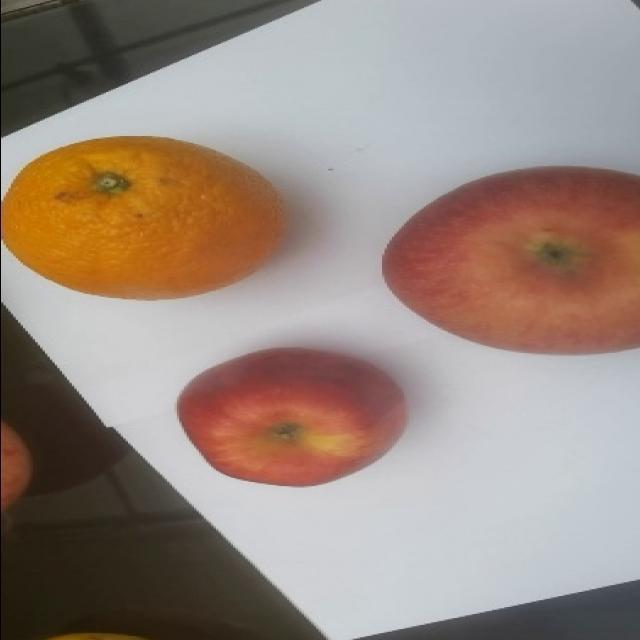Apple: (381, 164, 639, 355), (176, 345, 408, 487)
Orange: (1, 134, 286, 300)
